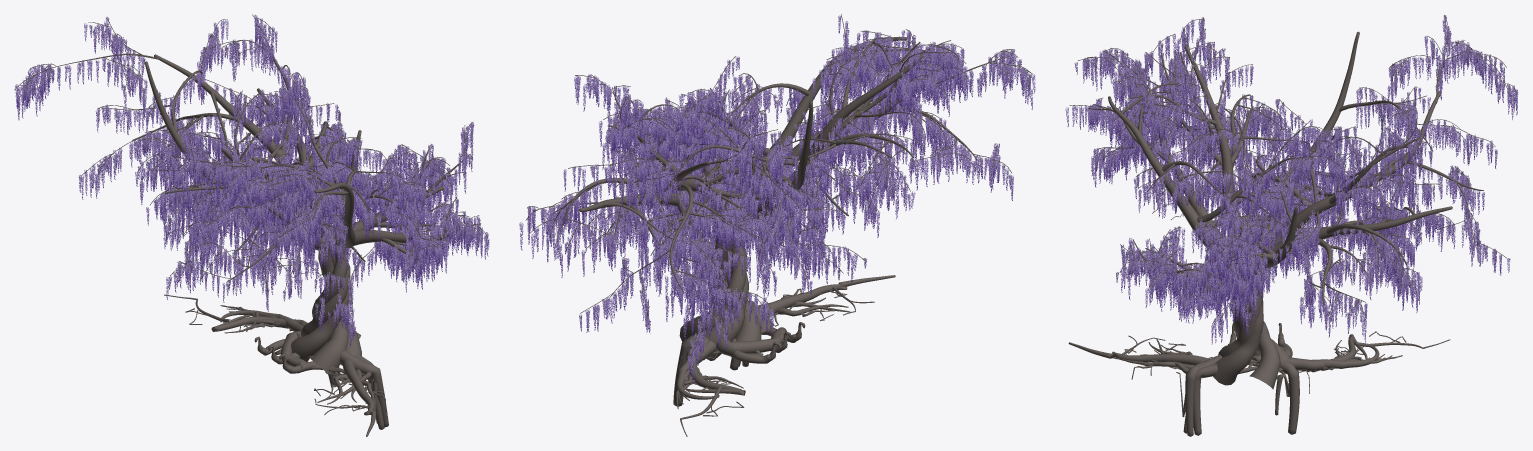
Rendered from wisteria_1.glb.
The picture shows the model from 3 angles, left to right: view 1: azimuth 30°, elevation 25°; view 2: azimuth 150°, elevation 25°; view 3: azimuth 270°, elevation 25°; orthographic projection. The views are drawn at different scales.
Parts seen in each view (by area): view 1: Wisteria1_Blossom, Wisteria1_Bark; view 2: Wisteria1_Blossom, Wisteria1_Bark; view 3: Wisteria1_Blossom, Wisteria1_Bark.
Part boxes in pixels (x1,y1,x2,y2): Wisteria1_Blossom: (15, 14, 489, 346); Wisteria1_Bark: (14, 14, 487, 436); Wisteria1_Blossom: (519, 15, 1035, 382); Wisteria1_Bark: (525, 14, 1032, 436); Wisteria1_Blossom: (1065, 15, 1518, 344); Wisteria1_Bark: (1068, 15, 1515, 436).
Bounding box in the file's own units: 31.64 × 30.06 × 36.15.
2 materials, 1 textured.
